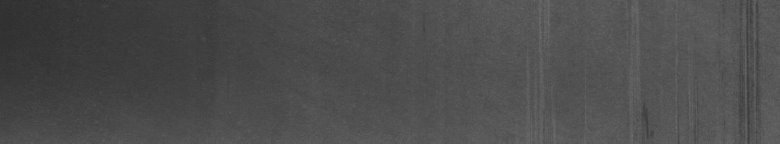ka: (628, 4, 764, 136)
